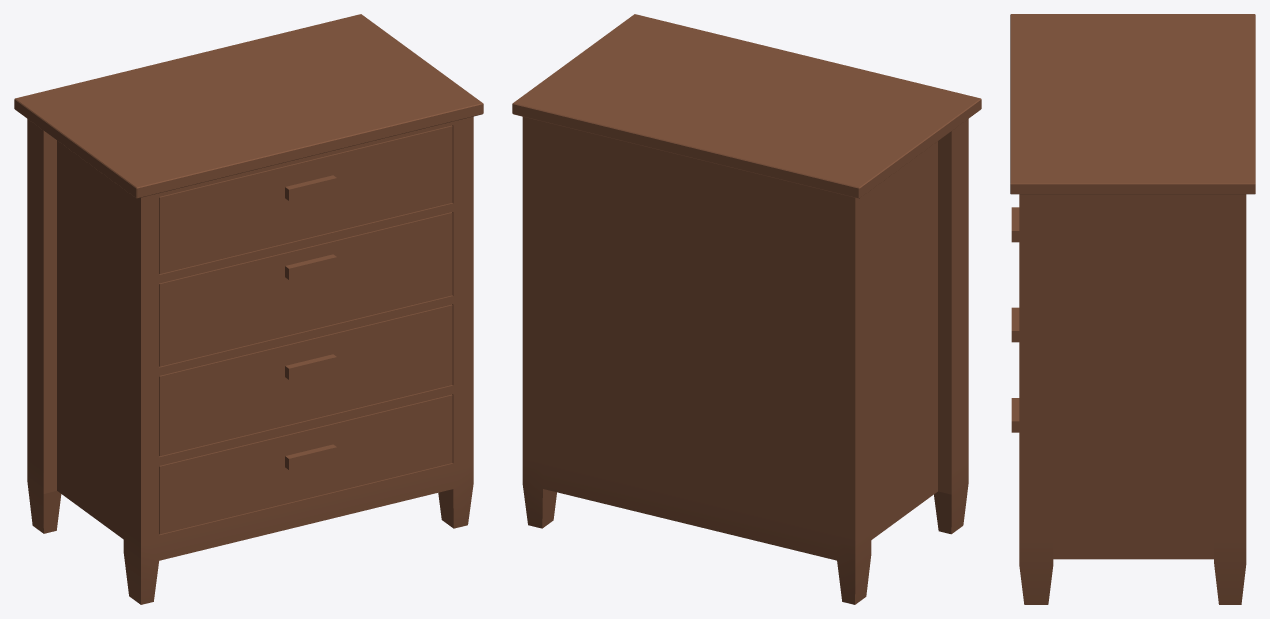
The model's file is Dresser.fbx.
3 views of the same model, side by side, from view 1: azimuth 30°, elevation 25°; view 2: azimuth 150°, elevation 25°; view 3: azimuth 270°, elevation 25° (orthographic).
Visible parts, largest first — view 1: cabinet; view 2: cabinet; view 3: cabinet.
Boxes of the visible parts, left/top/right/bottom form: cabinet: left=14, top=14, right=483, bottom=604; cabinet: left=512, top=14, right=981, bottom=604; cabinet: left=1010, top=14, right=1255, bottom=604.
Bounding box in the file's own units: 4425 × 5171 × 2701.
